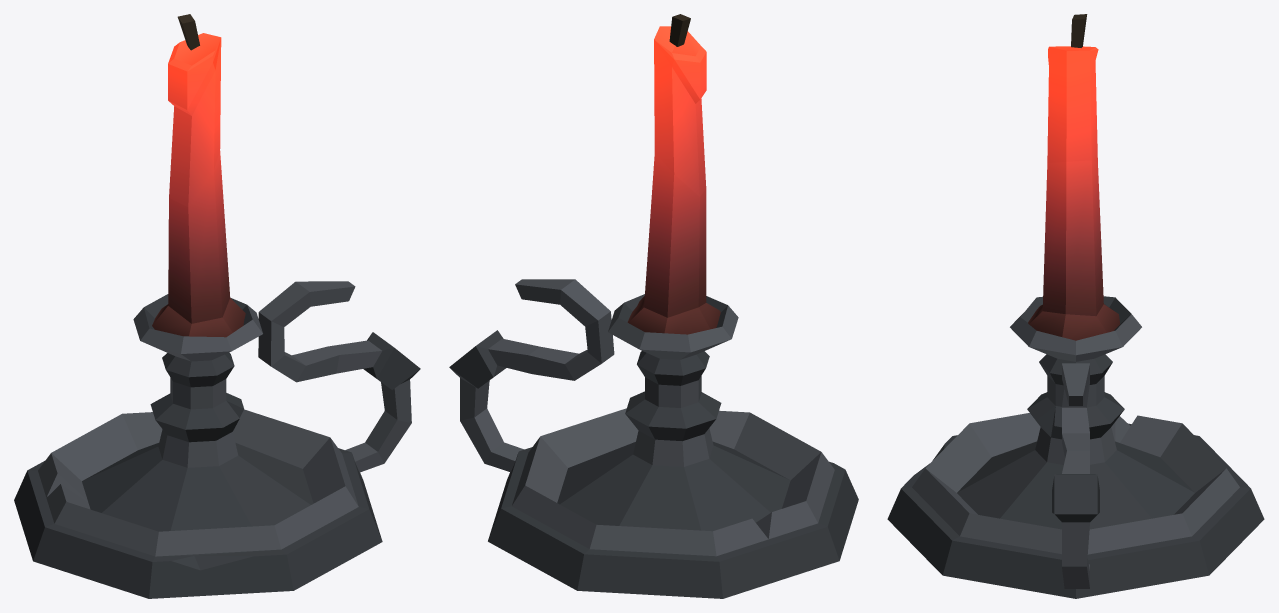
Rendered from crypt_candle.gltf.
3 views of the same model, side by side, from view 1: azimuth 30°, elevation 25°; view 2: azimuth 150°, elevation 25°; view 3: azimuth 270°, elevation 25° (orthographic).
Parts seen in each view (by area): view 1: crypt_candle; view 2: crypt_candle; view 3: crypt_candle.
Part boxes in pixels (bbox=[...]): crypt_candle: bbox=[14, 14, 420, 598]; crypt_candle: bbox=[449, 14, 858, 598]; crypt_candle: bbox=[887, 14, 1264, 598].
Size of the model in its own units: 0.3079 by 0.3938 by 0.2699.
1 material, 1 textured.
